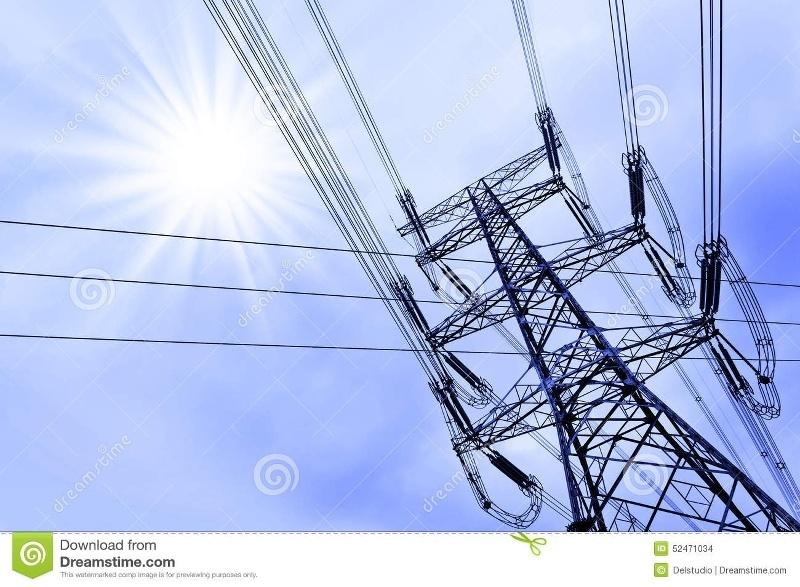power_tower: (364, 161, 790, 526)
